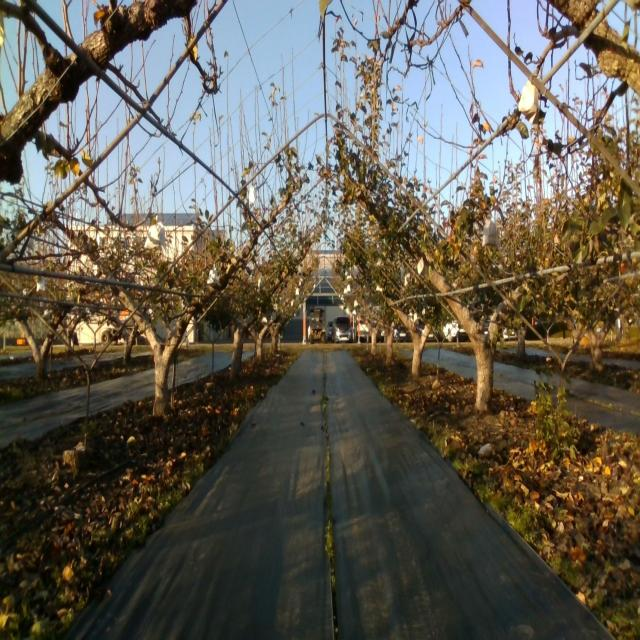pearbags: (517, 83, 539, 132), (144, 214, 166, 250), (481, 219, 500, 249), (207, 264, 220, 286)
